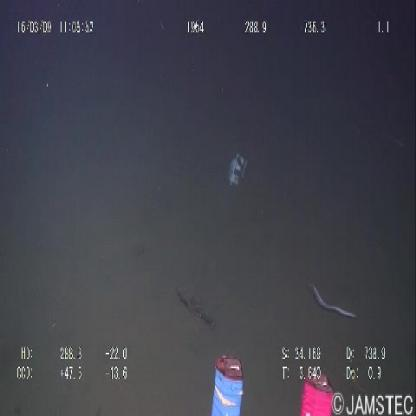Bio: (303, 277, 363, 325)
Rov: (204, 345, 337, 416)
Rác: (220, 142, 257, 196)
